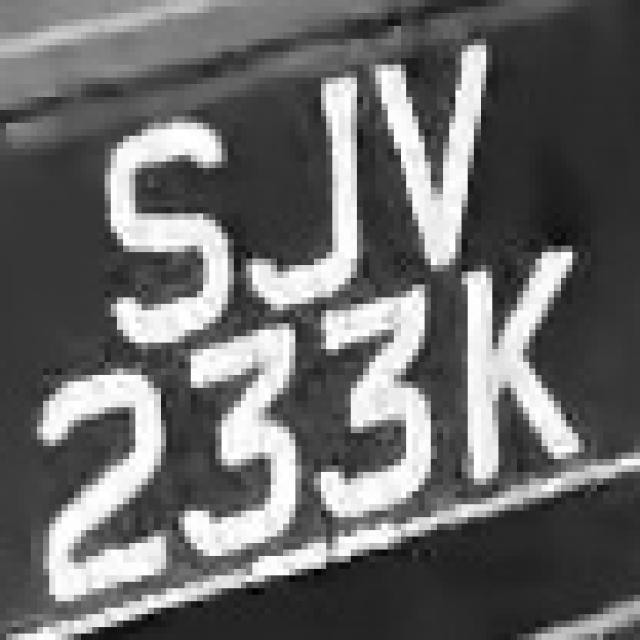2: (18, 349, 197, 621)
3: (160, 323, 320, 556), (308, 298, 443, 536)
J: (228, 65, 375, 316)
K: (431, 246, 603, 485)
S: (98, 90, 234, 375)
V: (357, 26, 511, 271)
